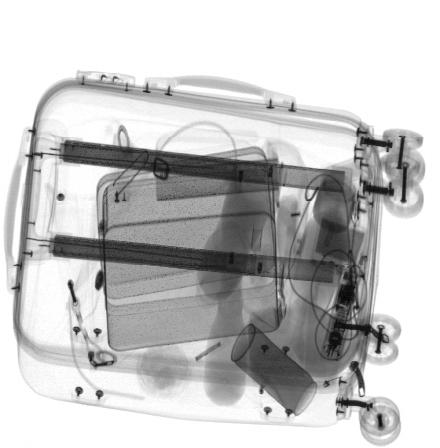Powerbank: (313, 215, 367, 269)
